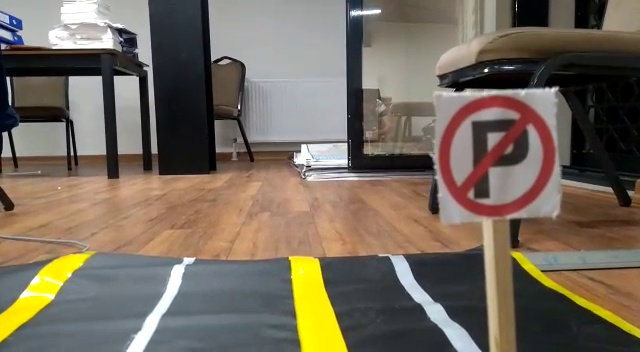park_yapilmaz: (433, 95, 561, 219)
